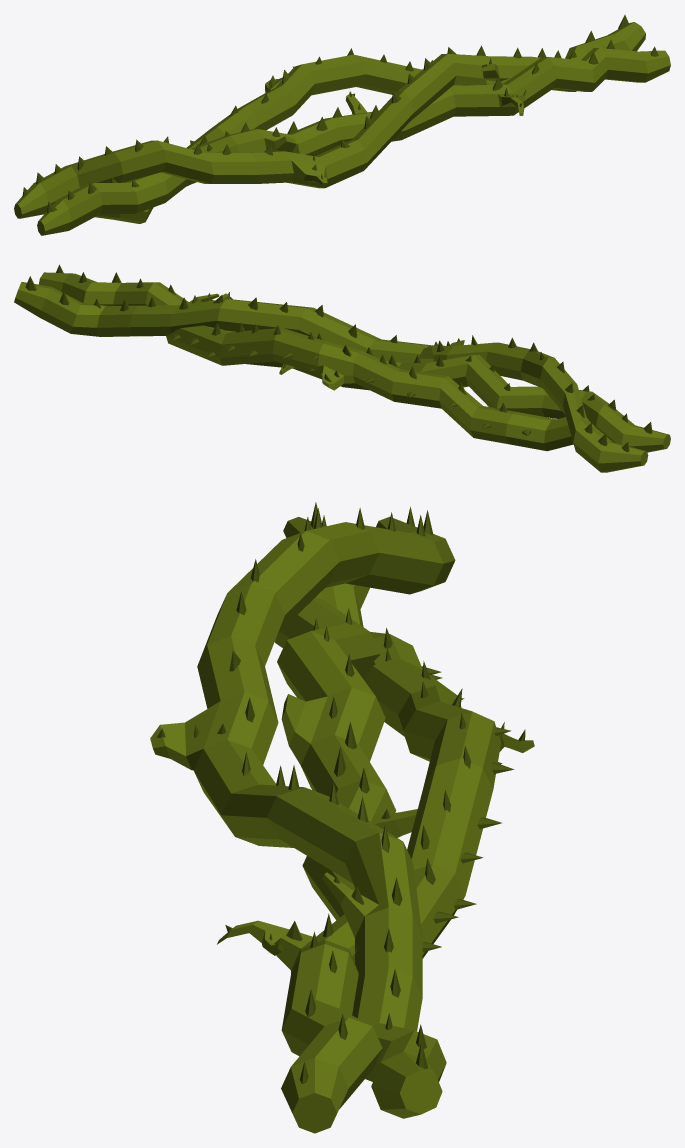
File: RosalPinchos.fbx
3 views of the same model, one above another, from view 1: azimuth 30°, elevation 25°; view 2: azimuth 150°, elevation 25°; view 3: azimuth 270°, elevation 25° (orthographic). The views are drawn at different scales.
Parts seen in each view (by area): view 1: Cone.079; view 2: Cone.079; view 3: Cone.079.
Boxes of the visible parts, left/top/right/bottom form: Cone.079: left=14, top=15, right=670, bottom=235; Cone.079: left=14, top=264, right=670, bottom=472; Cone.079: left=150, top=502, right=534, bottom=1133.
Bounding box in the file's own units: 556 × 77.24 × 149.
